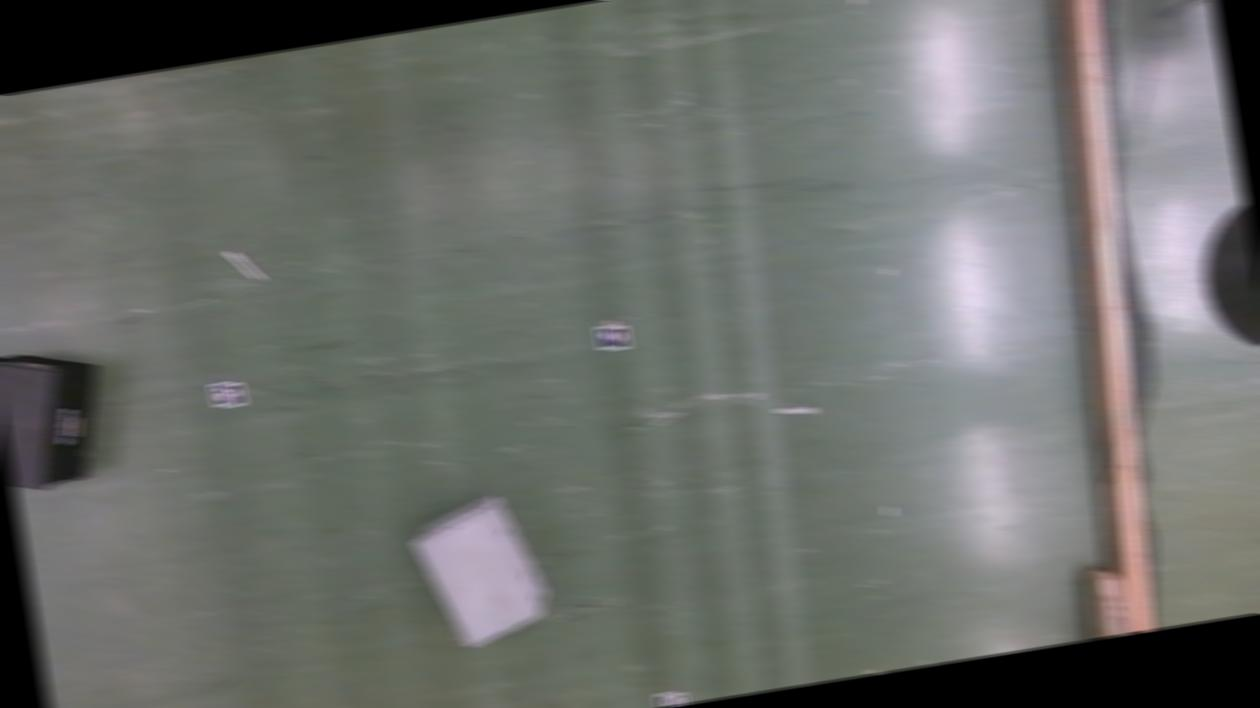probes: (223, 246, 263, 286), (772, 404, 816, 420)
rako: (406, 491, 554, 656), (0, 342, 116, 495)
